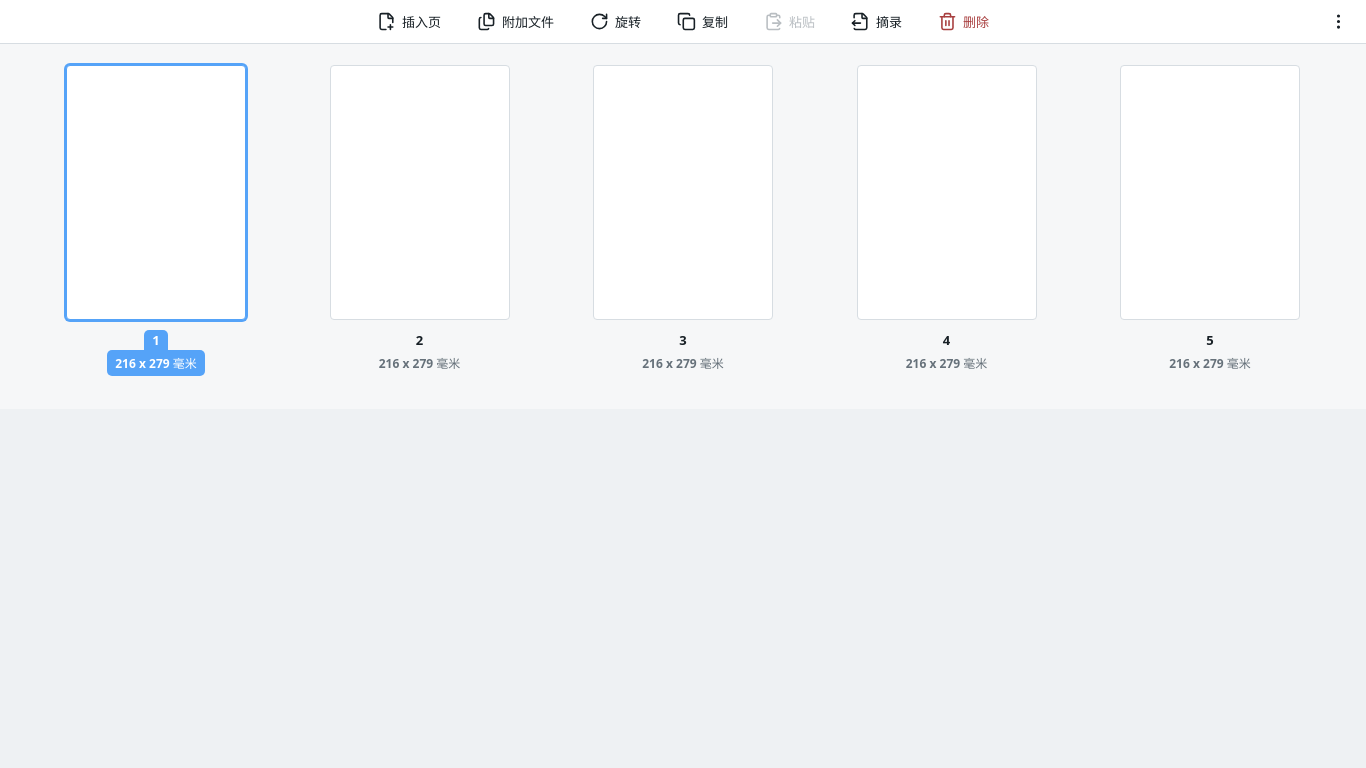
Test: PageOrganizerWorkspace 多选 / 撤销 / 风险 › 点击删除按钮弹出风险确认对话框
The image size is (1366, 768).
Click the button "删除": coordinates (964, 22) x1=934 y1=2 x2=993 y2=42
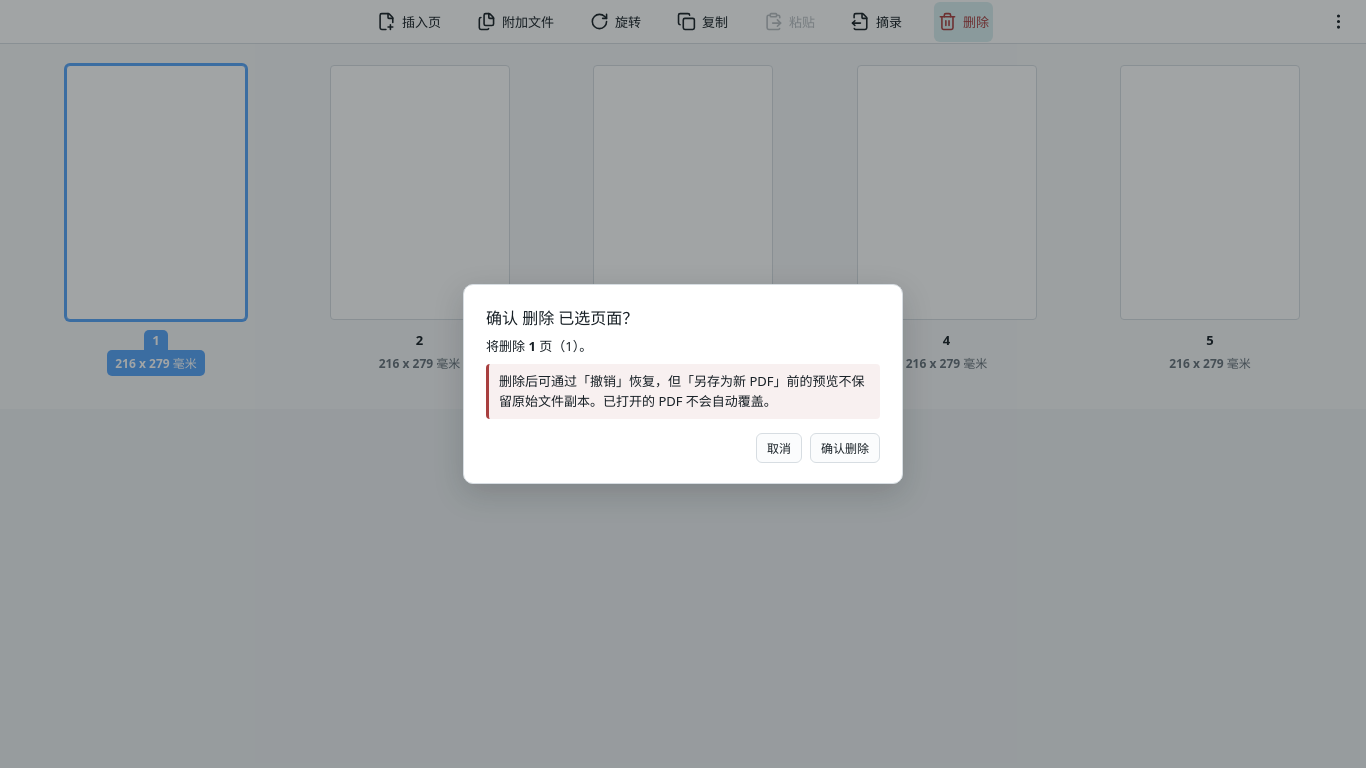
expect the dialog named "风险操作确认" is shown: met
expect the text "将删除 1 页（1）。" is shown: met, box x1=486 y1=337 x2=592 y2=355
